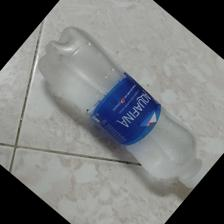Aquafina: (37, 26, 207, 191)
